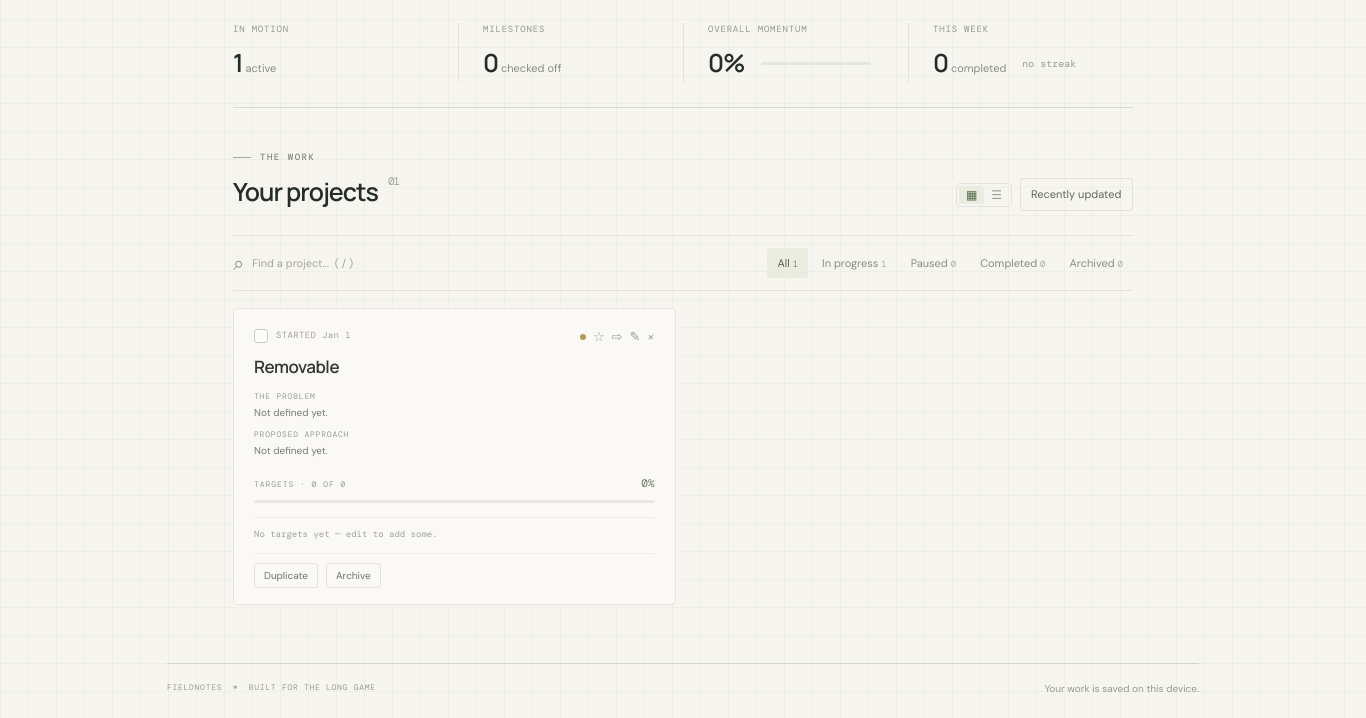
it: App: delete and undo › removes a project and can restore it
(page scrolled)
Click the button named "delete removable".
click(651, 337)  # box [647,328,654,346]
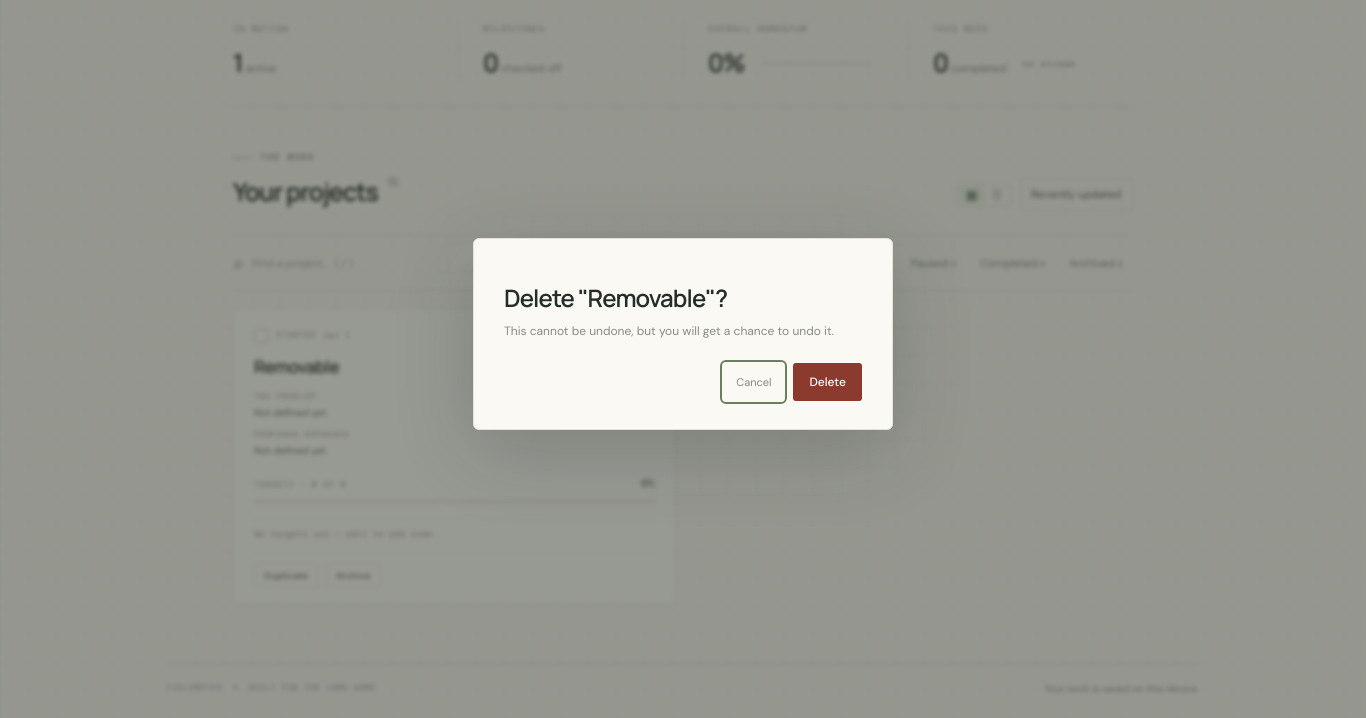
Click the button "Delete".
click(828, 382)  # box [794,363,862,401]
(page scrolled)
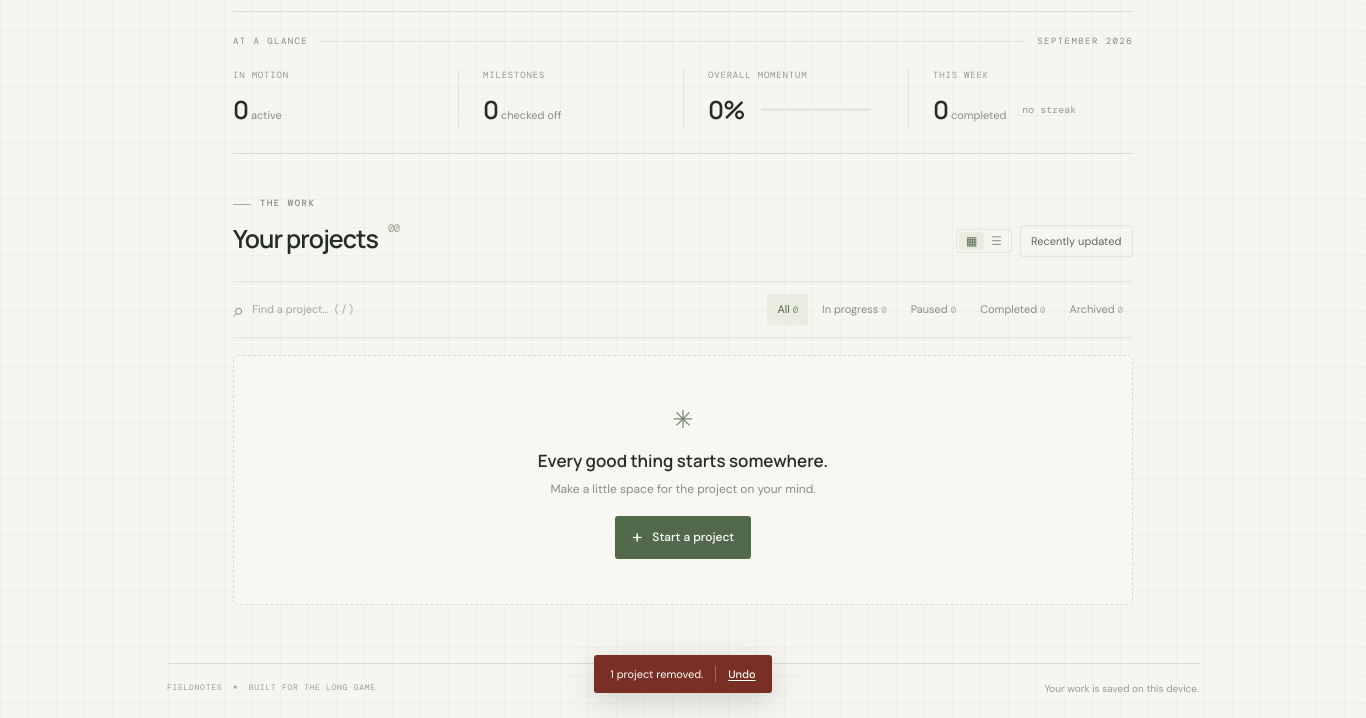
Expected: the button "Removable" is gone
Click the button "Undo".
click(736, 674)  # box [715,666,756,682]
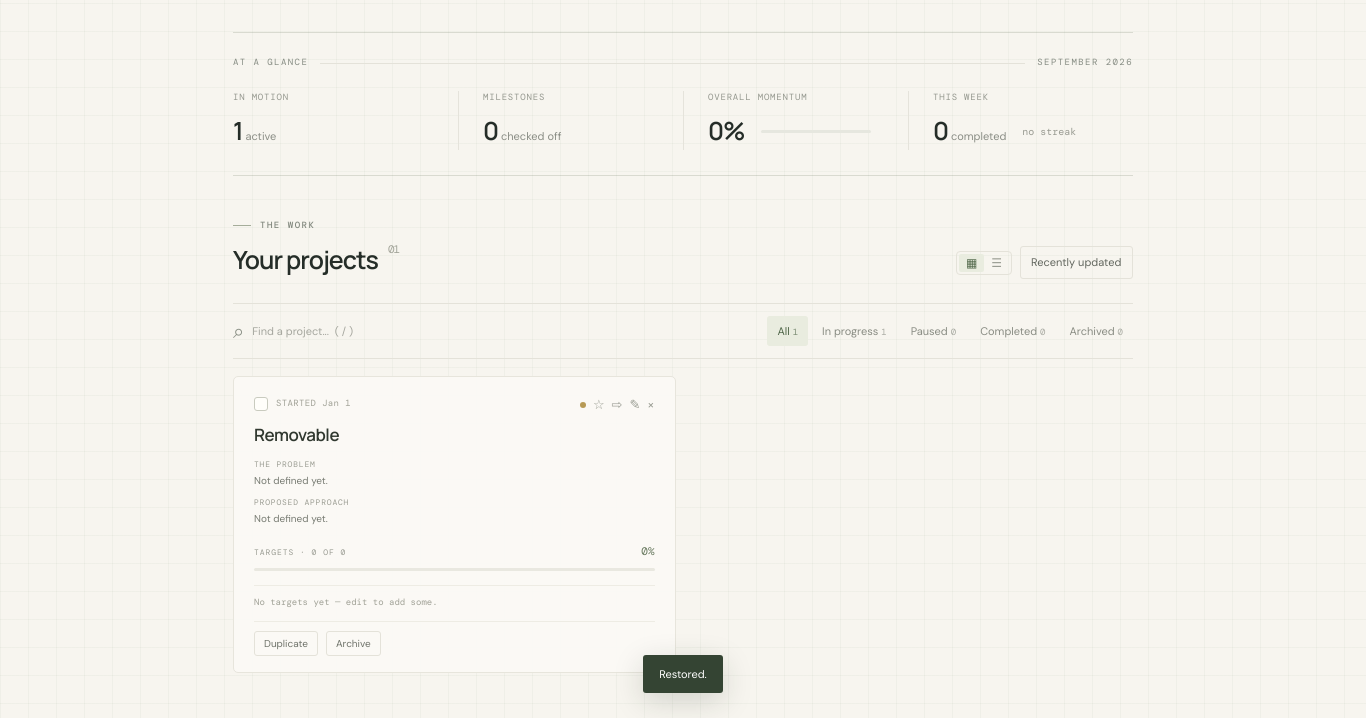
Expected: the button "Removable" is shown, [254,424,339,446]
